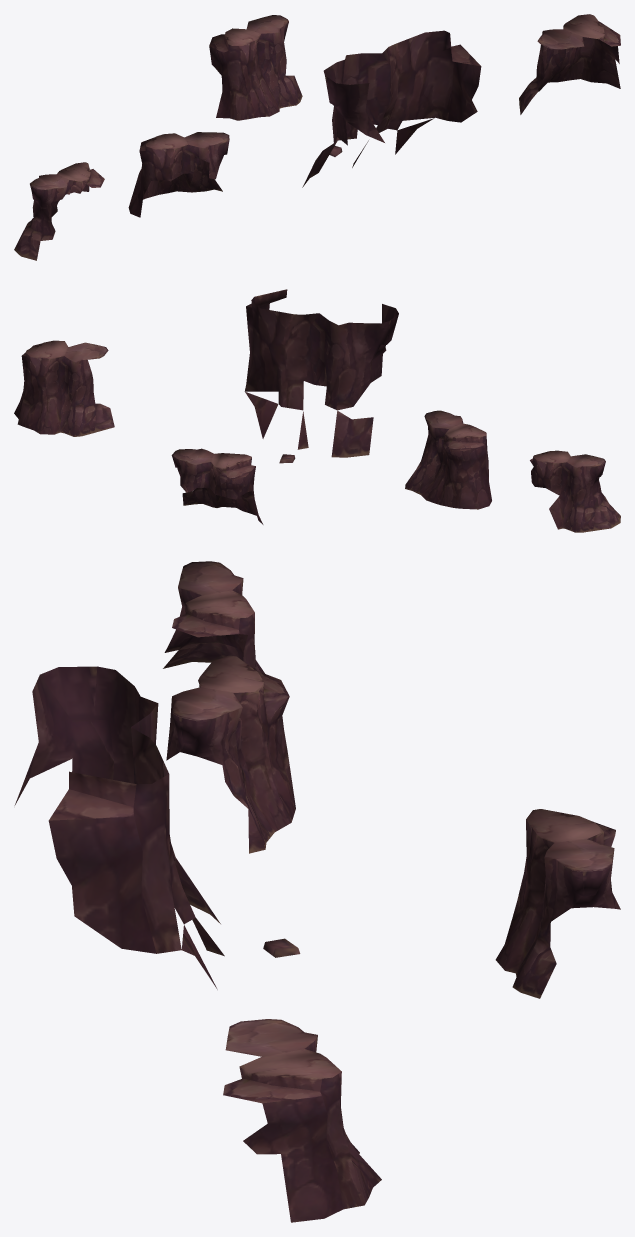
The model's file is area8_shiqiang_03.FBX.
The picture shows the model from 3 angles, top to bottom: view 1: azimuth 30°, elevation 25°; view 2: azimuth 150°, elevation 25°; view 3: azimuth 270°, elevation 25°; orthographic projection. The views are drawn at different scales.
Parts seen in each view (by area): view 1: area8_shiqiang_03; view 2: area8_shiqiang_03; view 3: area8_shiqiang_03.
Boxes of the visible parts, <box> form: area8_shiqiang_03: <box>14,14,620,260</box>; area8_shiqiang_03: <box>14,289,620,532</box>; area8_shiqiang_03: <box>14,561,620,1222</box>.
Bounding box in the file's own units: 8798 × 1872 × 4101.
